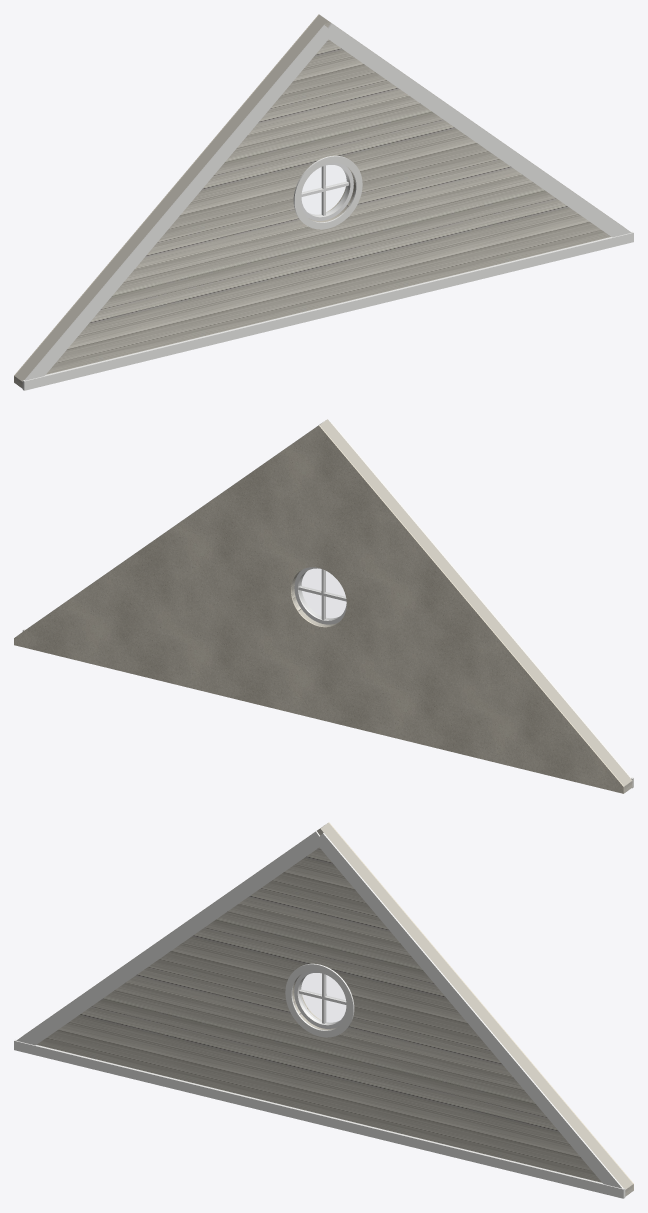
Rendered from gable_nave_back.glb.
3 views of the same model, one above another, from view 1: azimuth 30°, elevation 25°; view 2: azimuth 150°, elevation 25°; view 3: azimuth 330°, elevation 25° (orthographic).
Visible parts, largest first — view 1: gable_nave_back_siding, gable_nave_back_trim, gable_nave_back_glass, gable_nave_back_frame, gable_nave_back_plaster; view 2: gable_nave_back_plaster, gable_nave_back_siding, gable_nave_back_glass, gable_nave_back_frame, gable_nave_back_trim; view 3: gable_nave_back_siding, gable_nave_back_trim, gable_nave_back_glass, gable_nave_back_frame, gable_nave_back_plaster.
Boxes of the visible parts, x1,y1,x2,y2 form: gable_nave_back_siding: [14, 14, 628, 388]; gable_nave_back_trim: [22, 23, 633, 390]; gable_nave_back_glass: [302, 165, 347, 214]; gable_nave_back_frame: [300, 163, 353, 220]; gable_nave_back_plaster: [14, 14, 346, 382]; gable_nave_back_plaster: [14, 425, 624, 793]; gable_nave_back_siding: [20, 419, 632, 792]; gable_nave_back_glass: [299, 569, 345, 619]; gable_nave_back_frame: [294, 567, 346, 624]; gable_nave_back_trim: [22, 423, 633, 788]; gable_nave_back_siding: [19, 822, 633, 1196]; gable_nave_back_trim: [14, 831, 625, 1198]; gable_nave_back_glass: [300, 973, 345, 1022]; gable_nave_back_frame: [294, 971, 347, 1028]; gable_nave_back_plaster: [301, 822, 633, 1190].
Bounding box in the file's own units: 12 × 5.55 × 0.35.
Materials: 5 (2 with a texture image).
